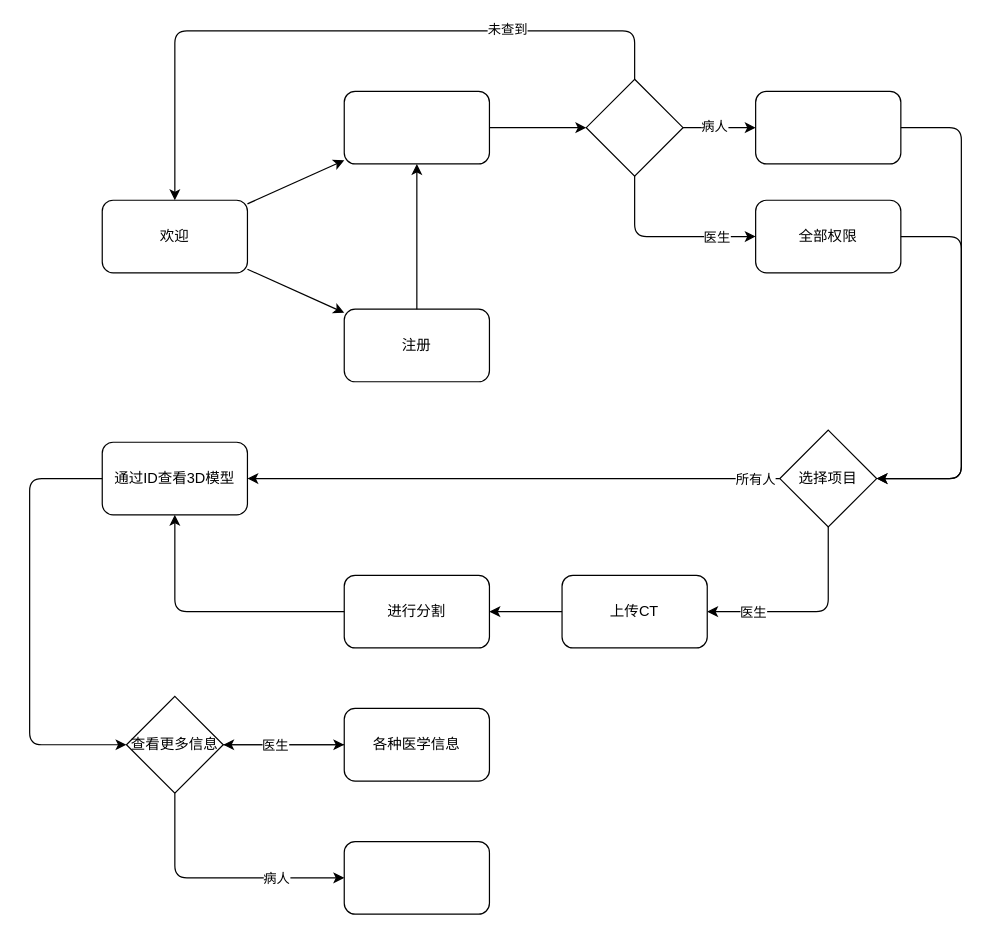
Image size: 992x935. Some labels were removed from this diagram. The shapes that lost their labels are listed below. From the top down, each one's box as (x1, y1, x2, y2) in pixels, then its label:
(343, 90, 489, 164): 登录
(585, 78, 683, 176): 身份判定
(754, 90, 901, 164): 部分权限
(343, 840, 489, 914): 病历
